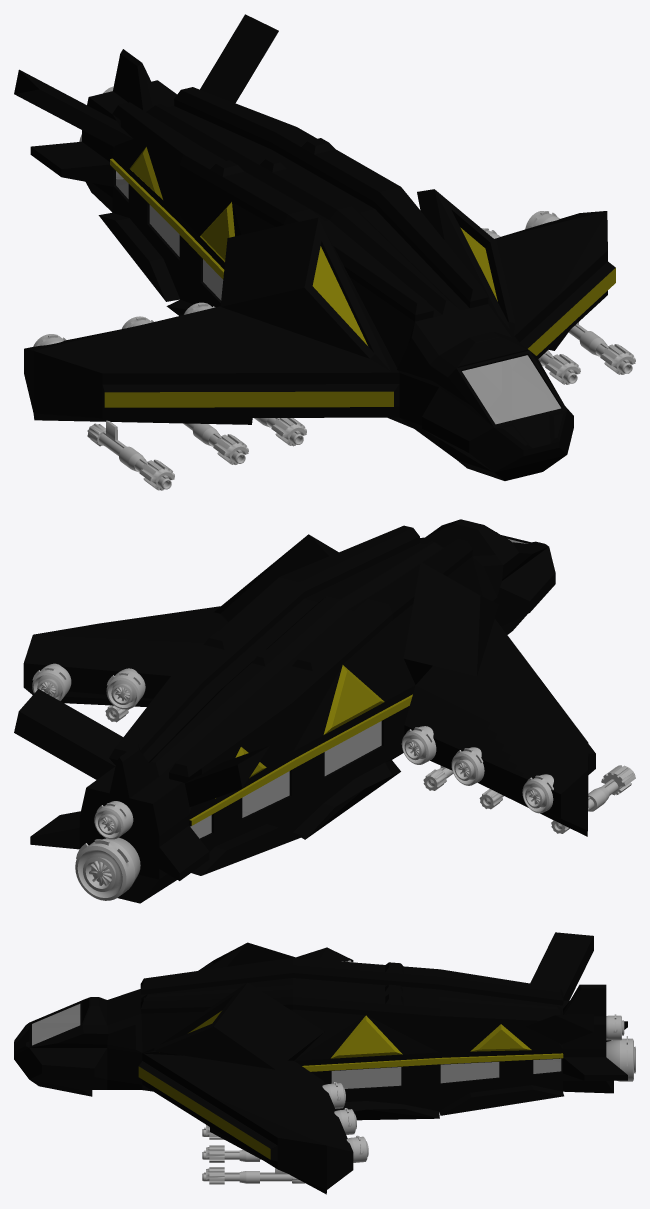
Rendered from Nave boladona.fbx.
3 renders of one model, top to bottom at view 1: azimuth 30°, elevation 25°; view 2: azimuth 150°, elevation 25°; view 3: azimuth 270°, elevation 25°, orthographic. The views are drawn at different scales.
Visible parts, largest first — view 1: Cube, Tube; view 2: Cube, Thruster_6, Thruster_1, Thruster_7, Thruster_3, Thruster, Thruster_4, Thruster_5, Tube_2; view 3: Cube, Thruster_6, Tube_6, Thruster_7, Thruster, Thruster_2, Thruster_1.
Part boxes in pixels (box(x1,y1,x2,y2)): Cube: box(14, 14, 615, 480); Tube: box(99, 420, 171, 489); Cube: box(14, 519, 595, 903); Thruster_6: box(75, 837, 140, 900); Thruster_1: box(106, 668, 145, 709); Thruster_7: box(94, 801, 133, 839); Thruster_3: box(401, 726, 436, 764); Thruster: box(32, 663, 71, 700); Thruster_4: box(451, 747, 484, 785); Thruster_5: box(522, 774, 553, 813); Tube_2: box(601, 765, 635, 795); Cube: box(14, 932, 627, 1194); Thruster_6: box(606, 1036, 635, 1081); Tube_6: box(202, 1168, 291, 1181); Thruster_7: box(606, 1014, 624, 1040); Thruster: box(346, 1135, 368, 1162); Thruster_2: box(322, 1082, 345, 1108); Thruster_1: box(334, 1108, 356, 1134).
Bounding box in the file's own units: 1569 × 545 × 2080.
